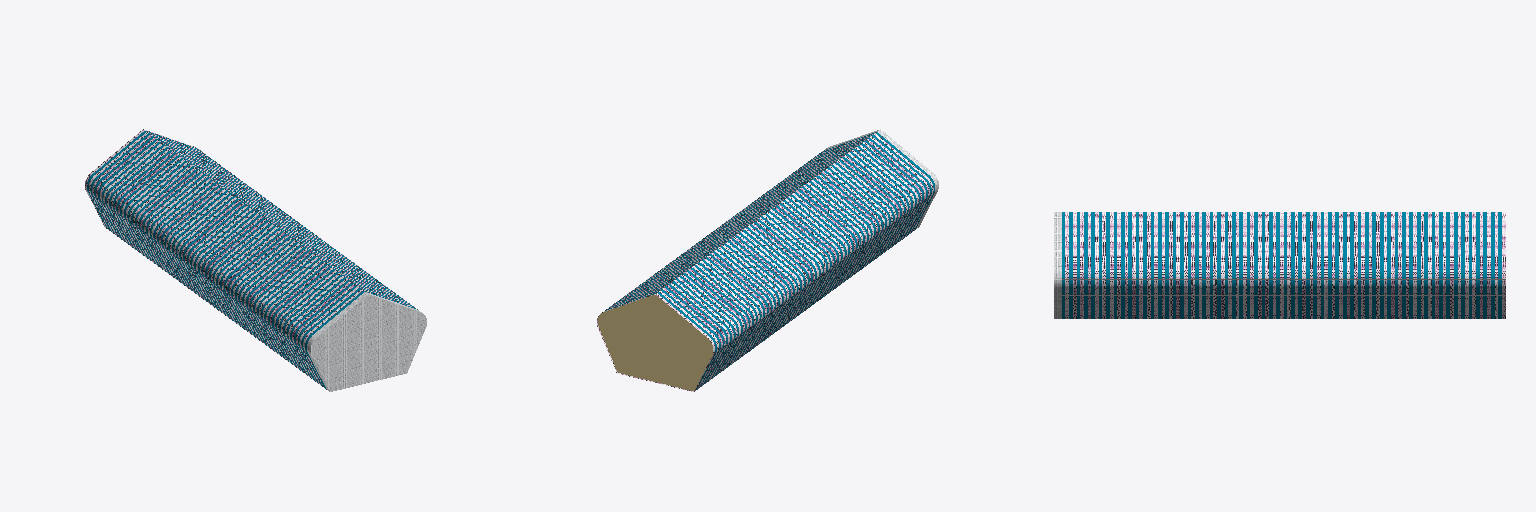
3 views of the same model, side by side, from view 1: azimuth 30°, elevation 25°; view 2: azimuth 150°, elevation 25°; view 3: azimuth 270°, elevation 25° (orthographic).
Parts seen in each view (by area): view 1: glass_01, wall_01, slab_01, frame_01; view 2: wall_01, glass_01, slab_1_01, frame_01, slab_01; view 3: wall_01, glass_01, frame_01, slab_01.
Boxes of the visible parts, x1,y1,x2,y2 form: glass_01: [87, 131, 417, 388]; wall_01: [85, 130, 414, 386]; slab_01: [307, 292, 426, 391]; frame_01: [85, 129, 413, 389]; wall_01: [597, 133, 933, 391]; glass_01: [605, 132, 934, 389]; slab_1_01: [598, 295, 712, 390]; frame_01: [597, 132, 934, 390]; slab_01: [825, 129, 938, 228]; wall_01: [1065, 212, 1505, 318]; glass_01: [1062, 212, 1501, 318]; frame_01: [1062, 279, 1505, 295]; slab_01: [1054, 212, 1061, 318].
Size of the model in its own units: 2184 by 1589 by 7320.
Materials: 5 (2 with a texture image).